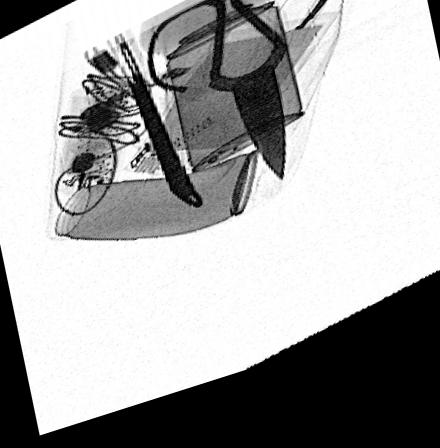Knife: (100, 36, 204, 215)
Powerbank: (123, 31, 344, 178)
Scissors: (141, 0, 340, 205)
Sprayer: (153, 0, 307, 185)
